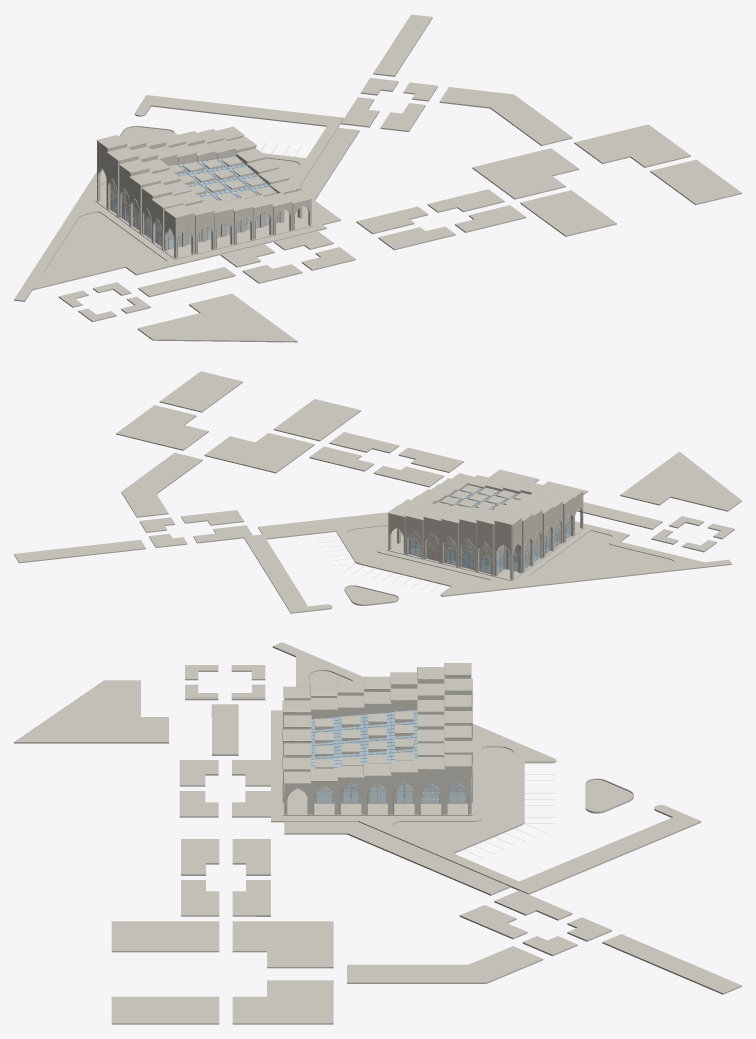
Rendered from budoor-al-najaf-sales-center.glb.
The picture shows the model from 3 angles, top to bottom: view 1: azimuth 30°, elevation 25°; view 2: azimuth 150°, elevation 25°; view 3: azimuth 270°, elevation 25°; orthographic projection. The views are drawn at different scales.
Visible parts, largest first — view 1: stone, glass, metal; view 2: stone, glass, metal; view 3: stone, glass, metal.
Part boxes in pixels (x1,y1,x2,y2): stone: (14,14,741,342); glass: (112,156,277,248); metal: (111,156,277,249); stone: (14,371,741,613); glass: (410,487,569,573); metal: (410,486,569,573); stone: (14,642,741,1024); glass: (311,710,465,802); metal: (311,709,465,802).
Bounding box in the file's own units: 100 × 9.27 × 80.92.
